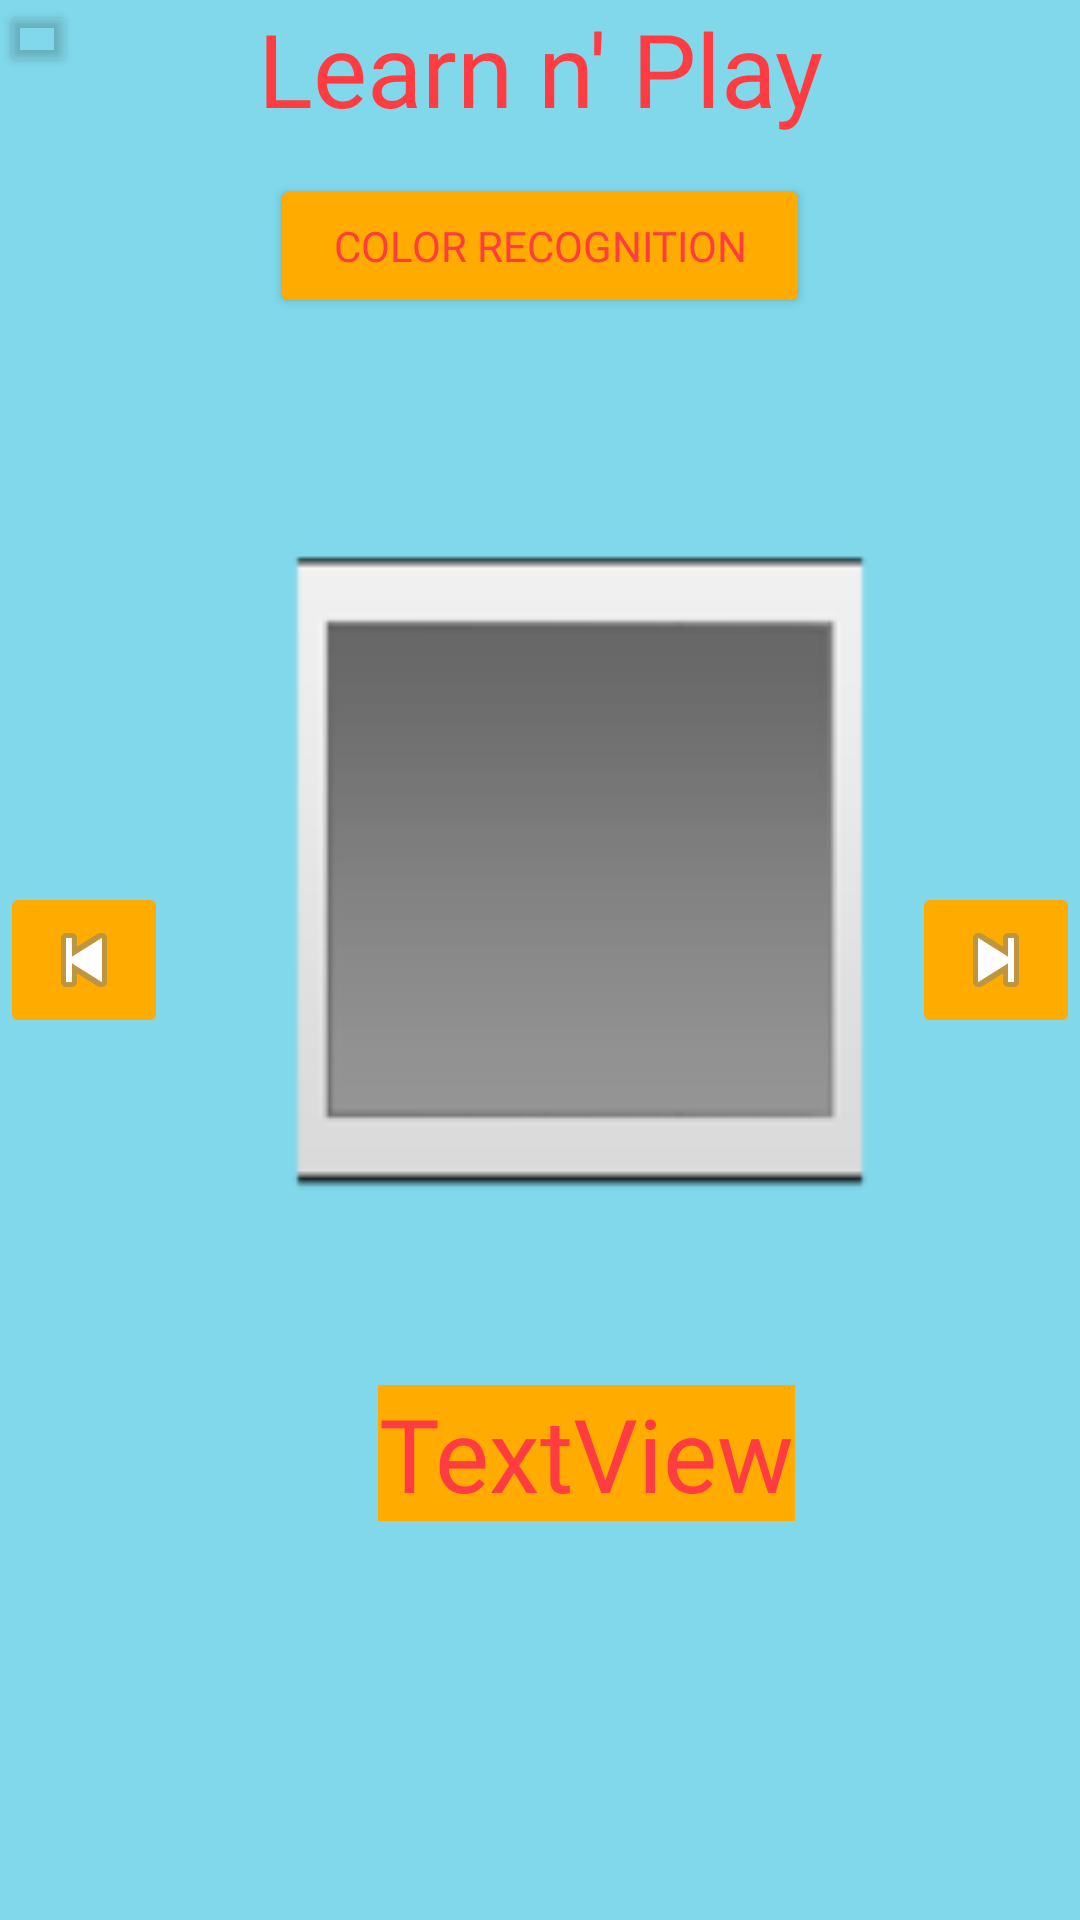

Icons on this 1080 × 1920 Android screen, each with its box as (x1, y1, x2, y2):
next: (924, 900, 1068, 1020)
previous: (12, 900, 156, 1020)
